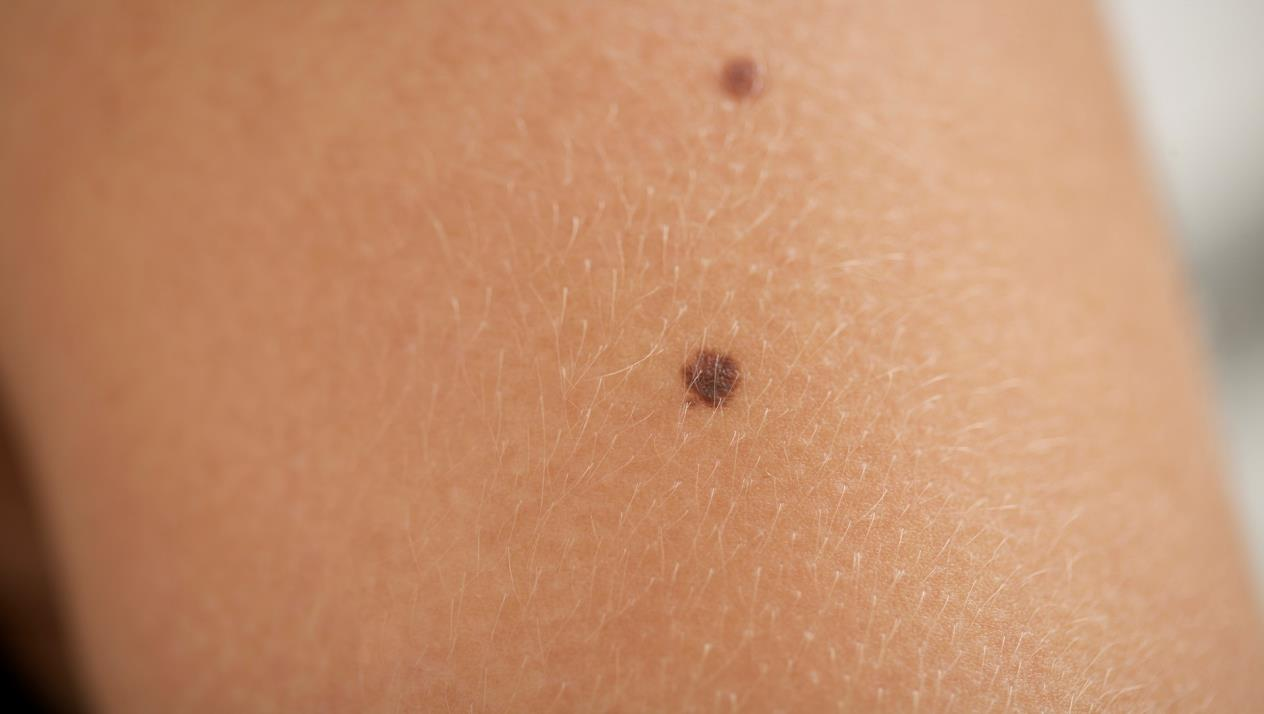mole: (663, 324, 773, 436), (695, 30, 791, 120)
